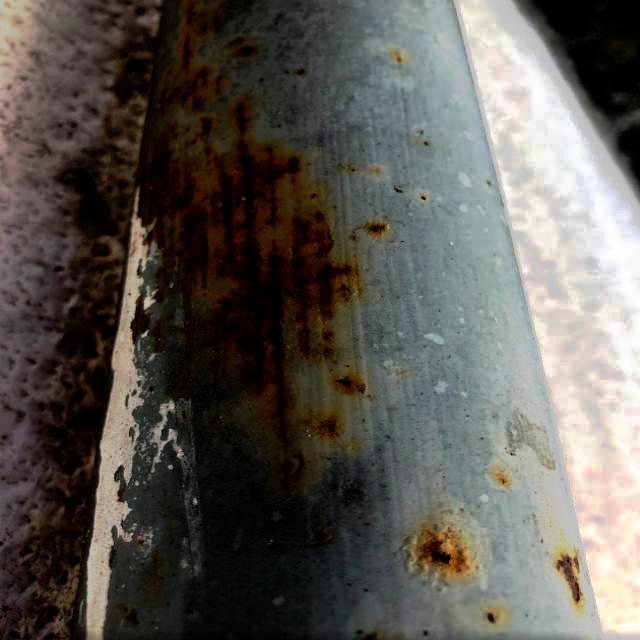Corrosion: (128, 0, 392, 490), (408, 528, 473, 582), (557, 555, 586, 609), (394, 182, 433, 204), (496, 472, 513, 488), (354, 632, 381, 640), (488, 614, 496, 624)
